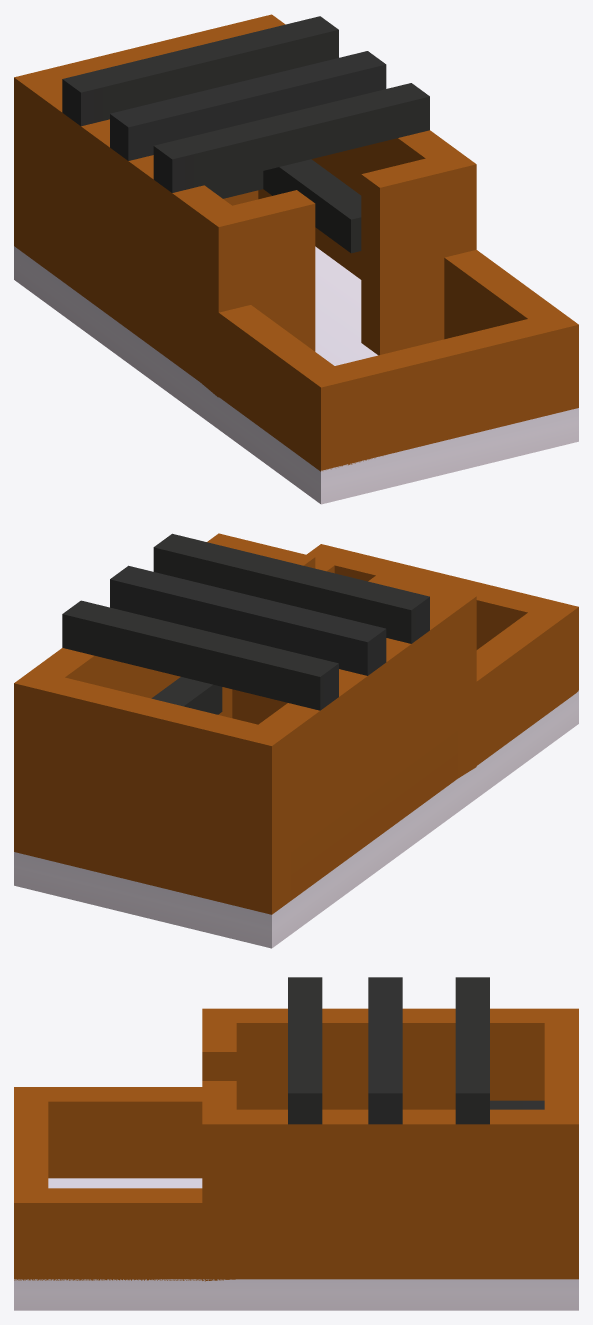
The model's file is sand_box.obj.
The picture shows the model from 3 angles, top to bottom: view 1: azimuth 30°, elevation 25°; view 2: azimuth 150°, elevation 25°; view 3: azimuth 270°, elevation 25°; orthographic projection. The views are drawn at different scales.
Parts seen in each view (by area): view 1: Cube.001, Cube, Cube.007, Cube.006, Cube.005, Cube.002; view 2: Cube.001, Cube, Cube.006, Cube.005, Cube.007, Cube.002; view 3: Cube.001, Cube, Cube.005, Cube.006, Cube.007, Cube.002.
Part boxes in pixels (left/top/right/bottom): Cube.001: left=14, top=14, right=578, bottom=471; Cube: left=14, top=246, right=578, bottom=504; Cube.007: left=153, top=83, right=429, bottom=192; Cube.006: left=62, top=16, right=338, bottom=126; Cube.005: left=110, top=51, right=386, bottom=160; Cube.002: left=205, top=159, right=361, bottom=253; Cube.001: left=14, top=533, right=578, bottom=914; Cube: left=14, top=690, right=578, bottom=948; Cube.006: left=62, top=600, right=338, bottom=710; Cube.005: left=110, top=565, right=386, bottom=675; Cube.007: left=153, top=533, right=429, bottom=643; Cube.002: left=151, top=677, right=222, bottom=714; Cube.001: left=14, top=1008, right=578, bottom=1281; Cube: left=14, top=1178, right=578, bottom=1310; Cube.005: left=368, top=977, right=402, bottom=1124; Cube.006: left=455, top=977, right=489, bottom=1124; Cube.007: left=288, top=977, right=322, bottom=1124; Cube.002: left=490, top=1100, right=544, bottom=1109.
Size of the model in its own units: 16 by 14 by 33.
